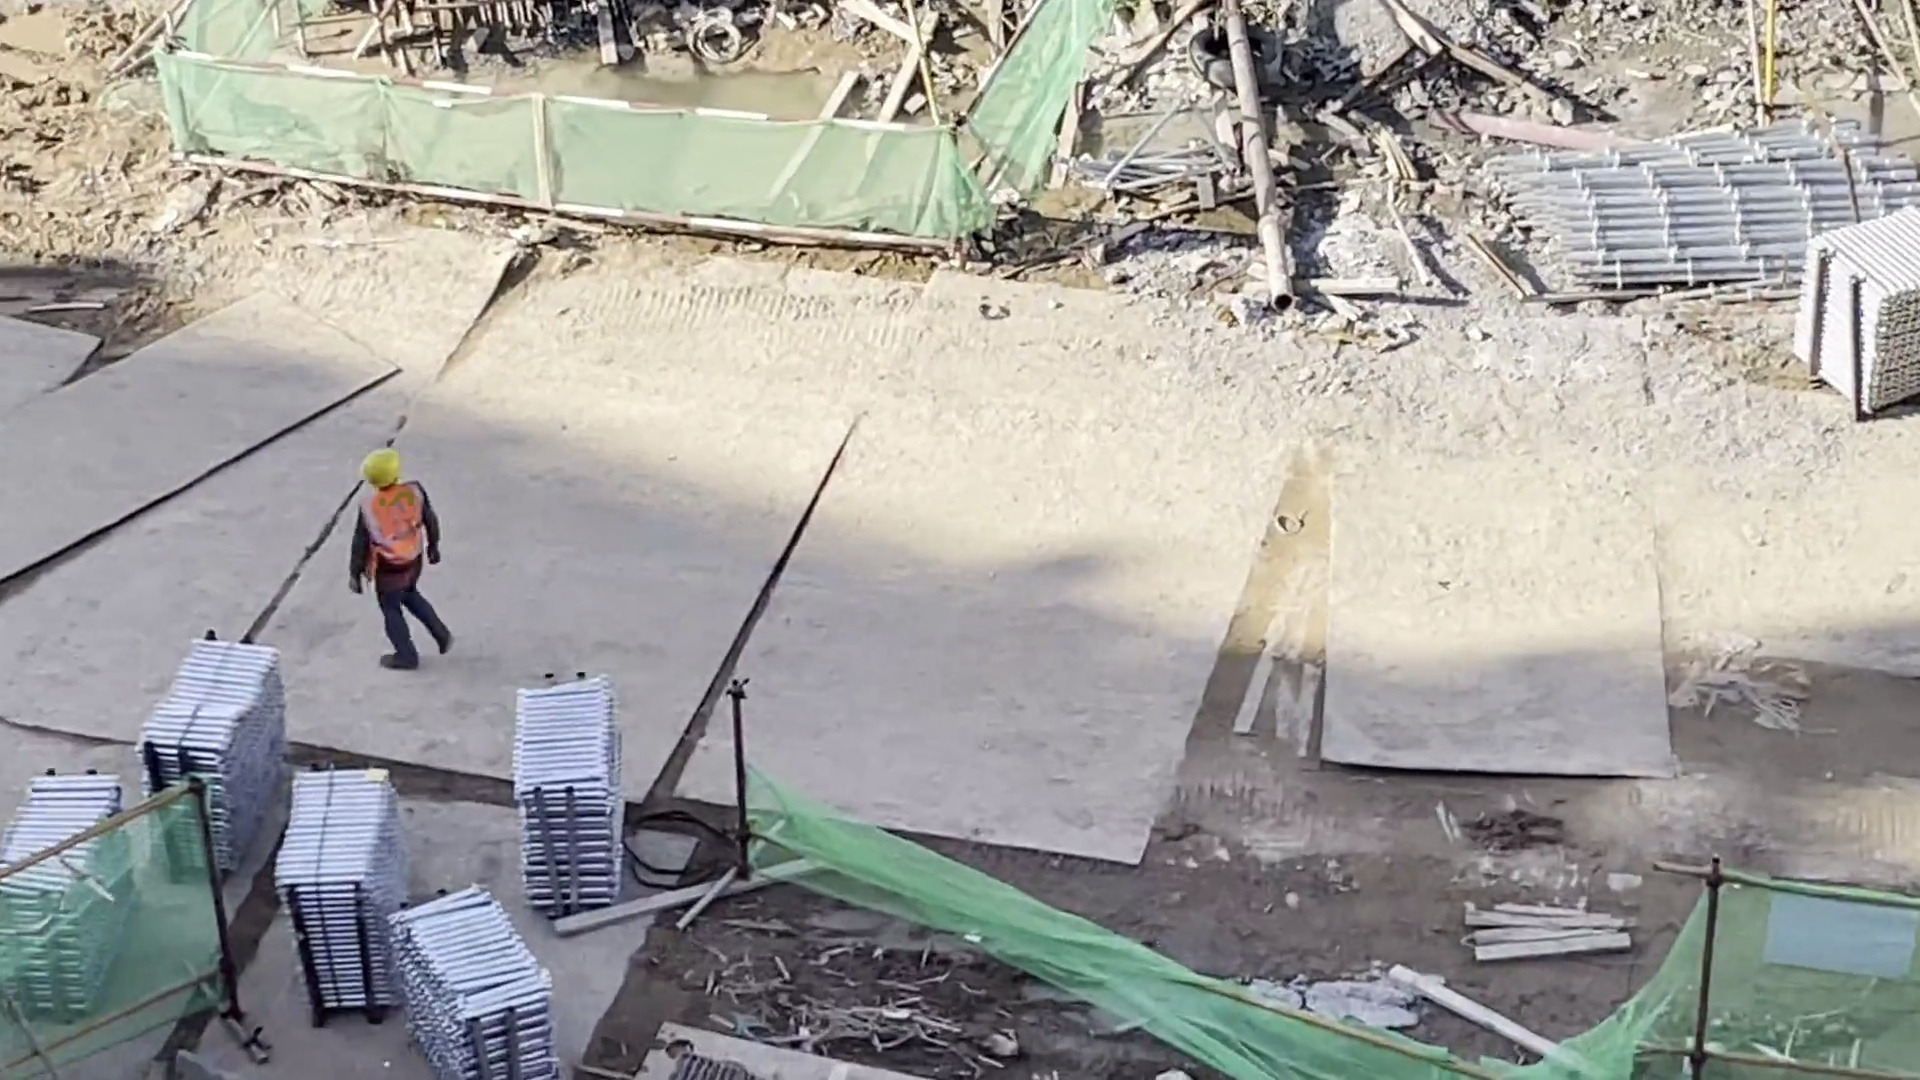helmet: (354, 438, 411, 498)
person: (329, 441, 462, 675)
scaffold: (1478, 117, 1920, 324), (136, 624, 295, 890), (381, 879, 583, 1080), (499, 675, 655, 920), (270, 758, 411, 1030), (4, 761, 146, 1021), (1788, 197, 1918, 424)
vest: (360, 478, 437, 571)
